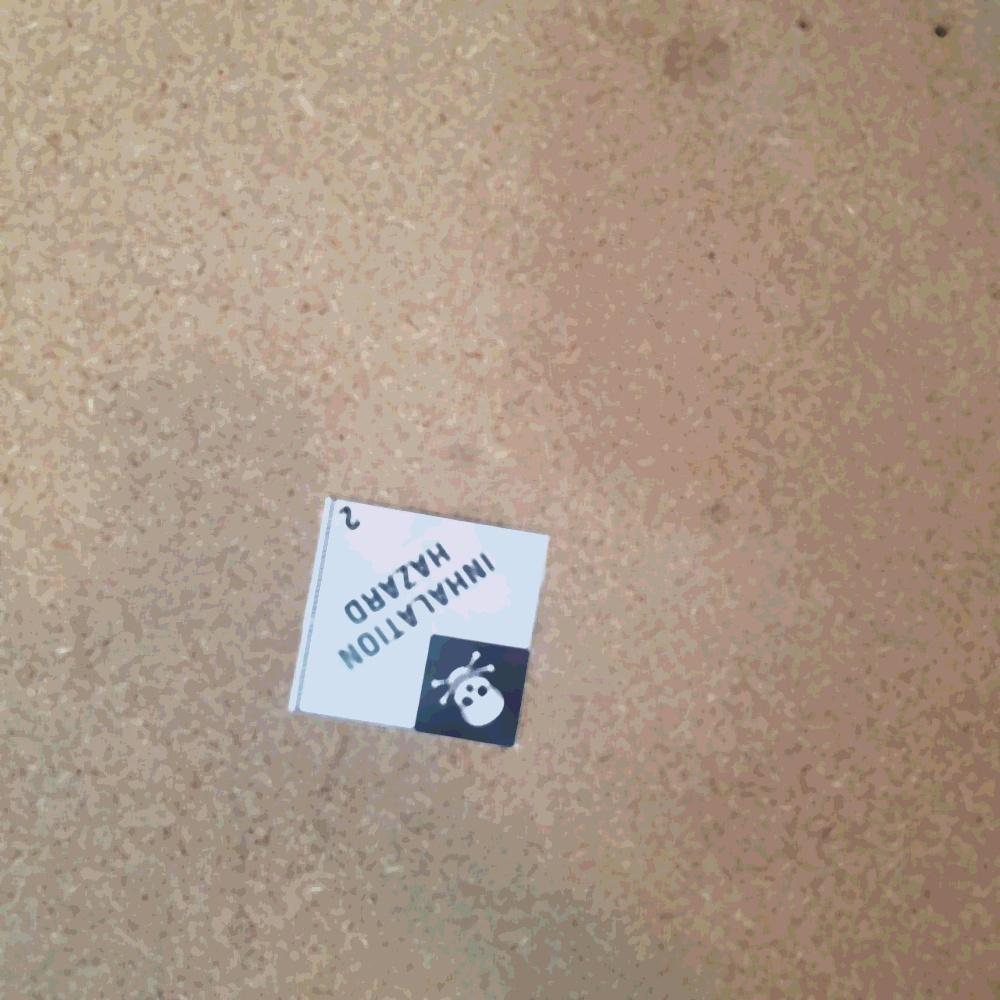poison: (284, 491, 557, 751)
